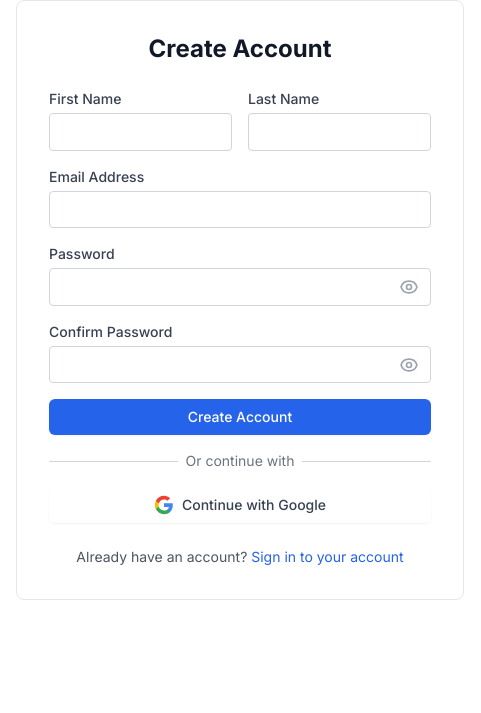
RegistrationForm › should require all fields
Submit empty form
Click the button "Create Account": (240, 417) [49,399,431,435]
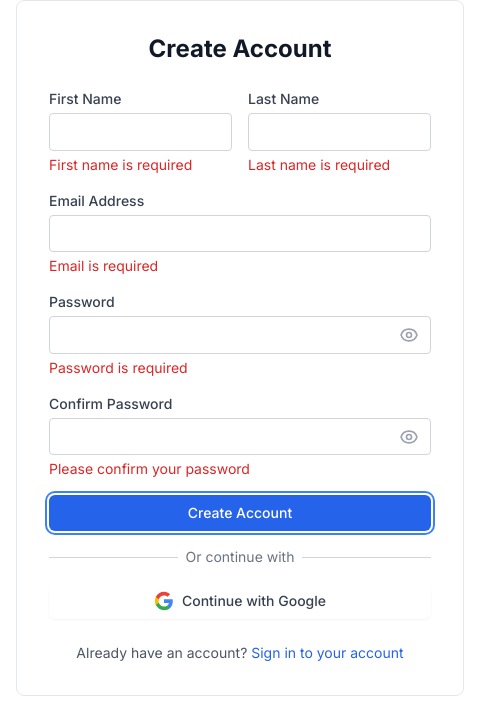
Expected: the text "Email is required" is shown, [49,257,158,274]
Expected: the text "Password is required" is shown, [49,359,188,376]
Expected: the text "First name is required" is shown, [49,156,192,173]
